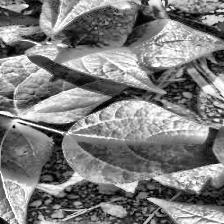ALS: (0, 55, 112, 125), (122, 20, 224, 68)
